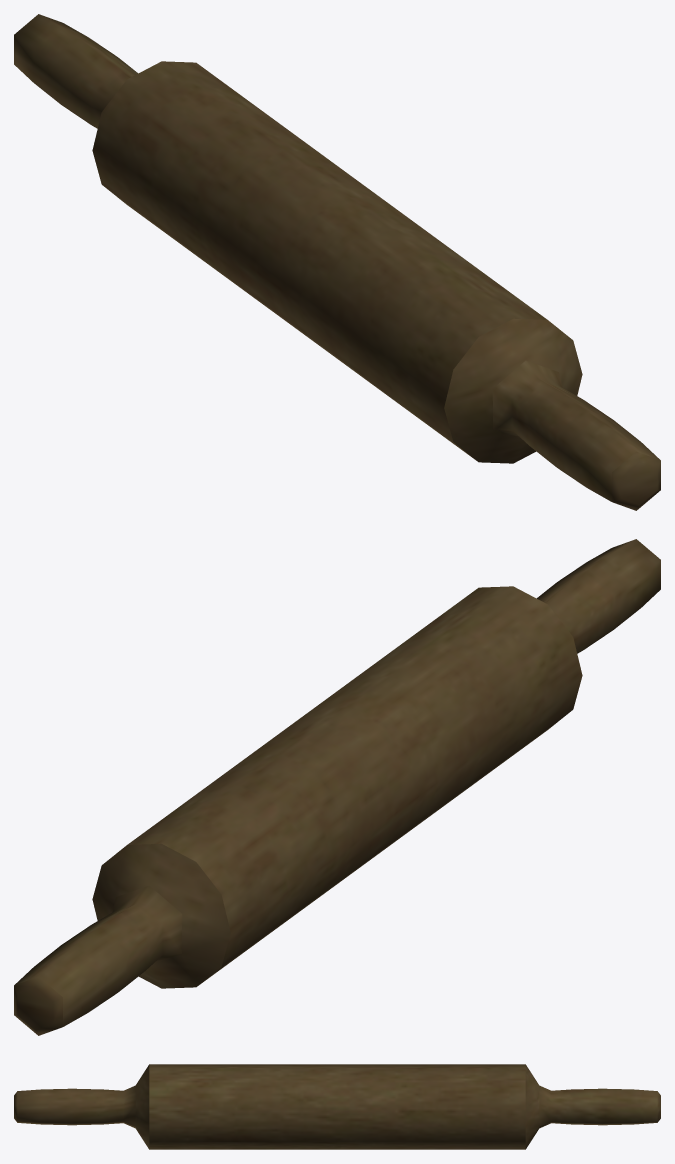
File: rolling_pin_mx_1.obj
3 views of the same model, one above another, from view 1: azimuth 30°, elevation 25°; view 2: azimuth 150°, elevation 25°; view 3: azimuth 270°, elevation 25° (orthographic). The views are drawn at different scales.
Visible parts, largest first — view 1: rolling_pin_mx_1; view 2: rolling_pin_mx_1; view 3: rolling_pin_mx_1.
Part boxes in pixels (x1=…): rolling_pin_mx_1: x1=14, y1=14, x2=660, y2=510; rolling_pin_mx_1: x1=14, y1=539, x2=660, y2=1035; rolling_pin_mx_1: x1=14, y1=1064, x2=660, y2=1149.
Bounding box in the file's own units: 0.1 × 0.1 × 0.756.
